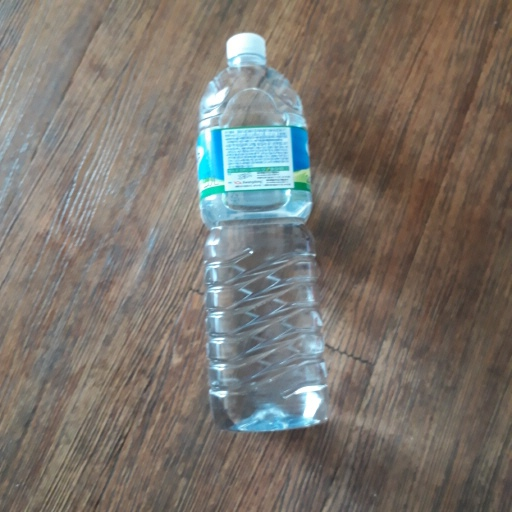Plastic_0: (196, 30, 327, 437)
